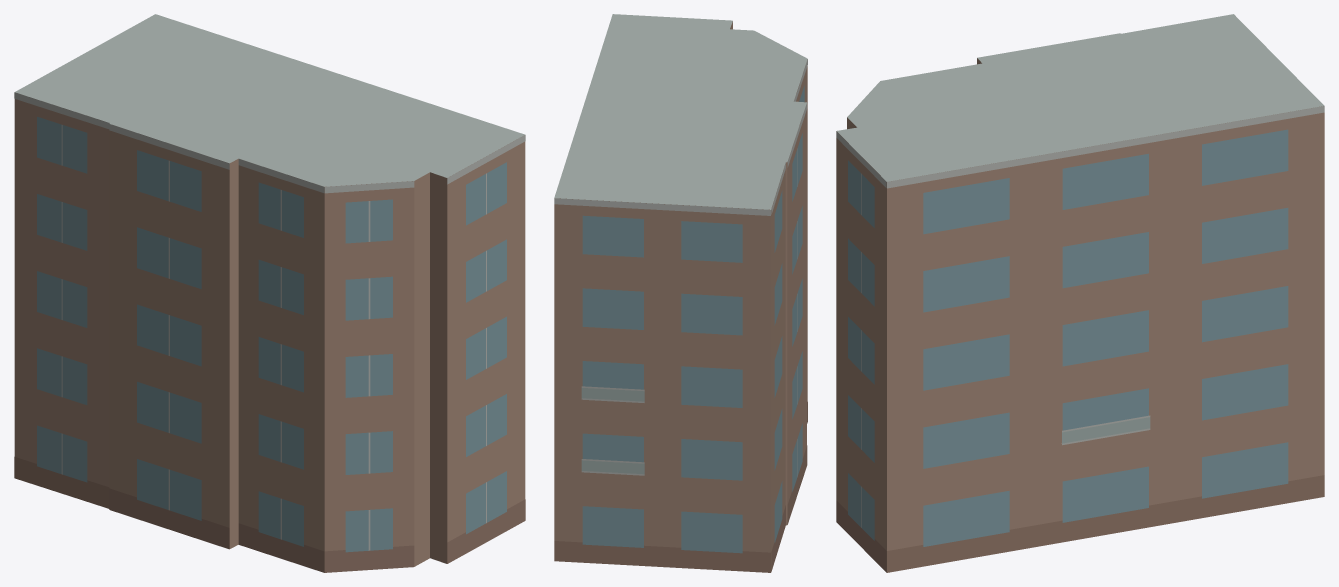
The model's file is survey-upis-32886195.glb.
3 renders of one model, left to right at view 1: azimuth 30°, elevation 25°; view 2: azimuth 150°, elevation 25°; view 3: azimuth 270°, elevation 25°, orthographic. The views are drawn at different scales.
Visible parts, largest first — view 1: survey-upis-32886195.tmp; view 2: survey-upis-32886195.tmp; view 3: survey-upis-32886195.tmp.
Boxes of the visible parts, <box> form: survey-upis-32886195.tmp: <box>14,14,525,572</box>; survey-upis-32886195.tmp: <box>554,14,807,572</box>; survey-upis-32886195.tmp: <box>836,14,1324,572</box>.
Bounding box in the file's own units: 13.23 × 14.35 × 16.25.
